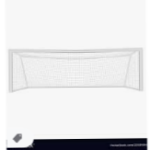goals: (6, 45, 146, 96)
